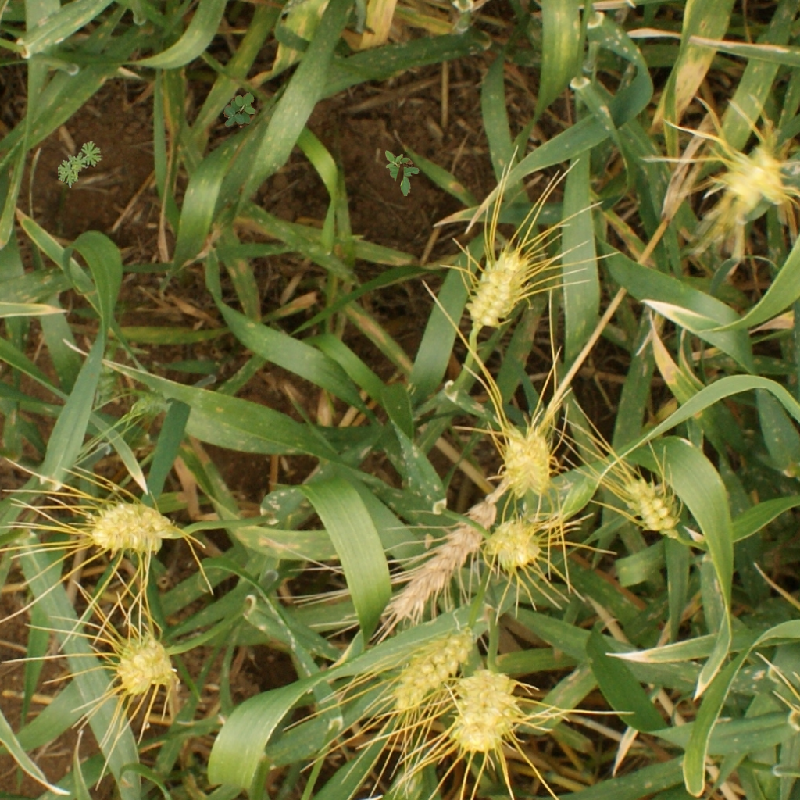spikelet: (389, 519, 483, 622), (390, 628, 475, 715), (448, 668, 521, 756), (465, 246, 531, 331), (88, 499, 177, 557), (620, 474, 686, 538), (498, 427, 556, 499), (113, 634, 177, 698), (720, 146, 787, 207), (485, 516, 543, 572), (53, 138, 104, 189), (129, 386, 172, 421)
weed: (215, 89, 265, 136), (58, 141, 104, 188), (385, 150, 420, 196)
